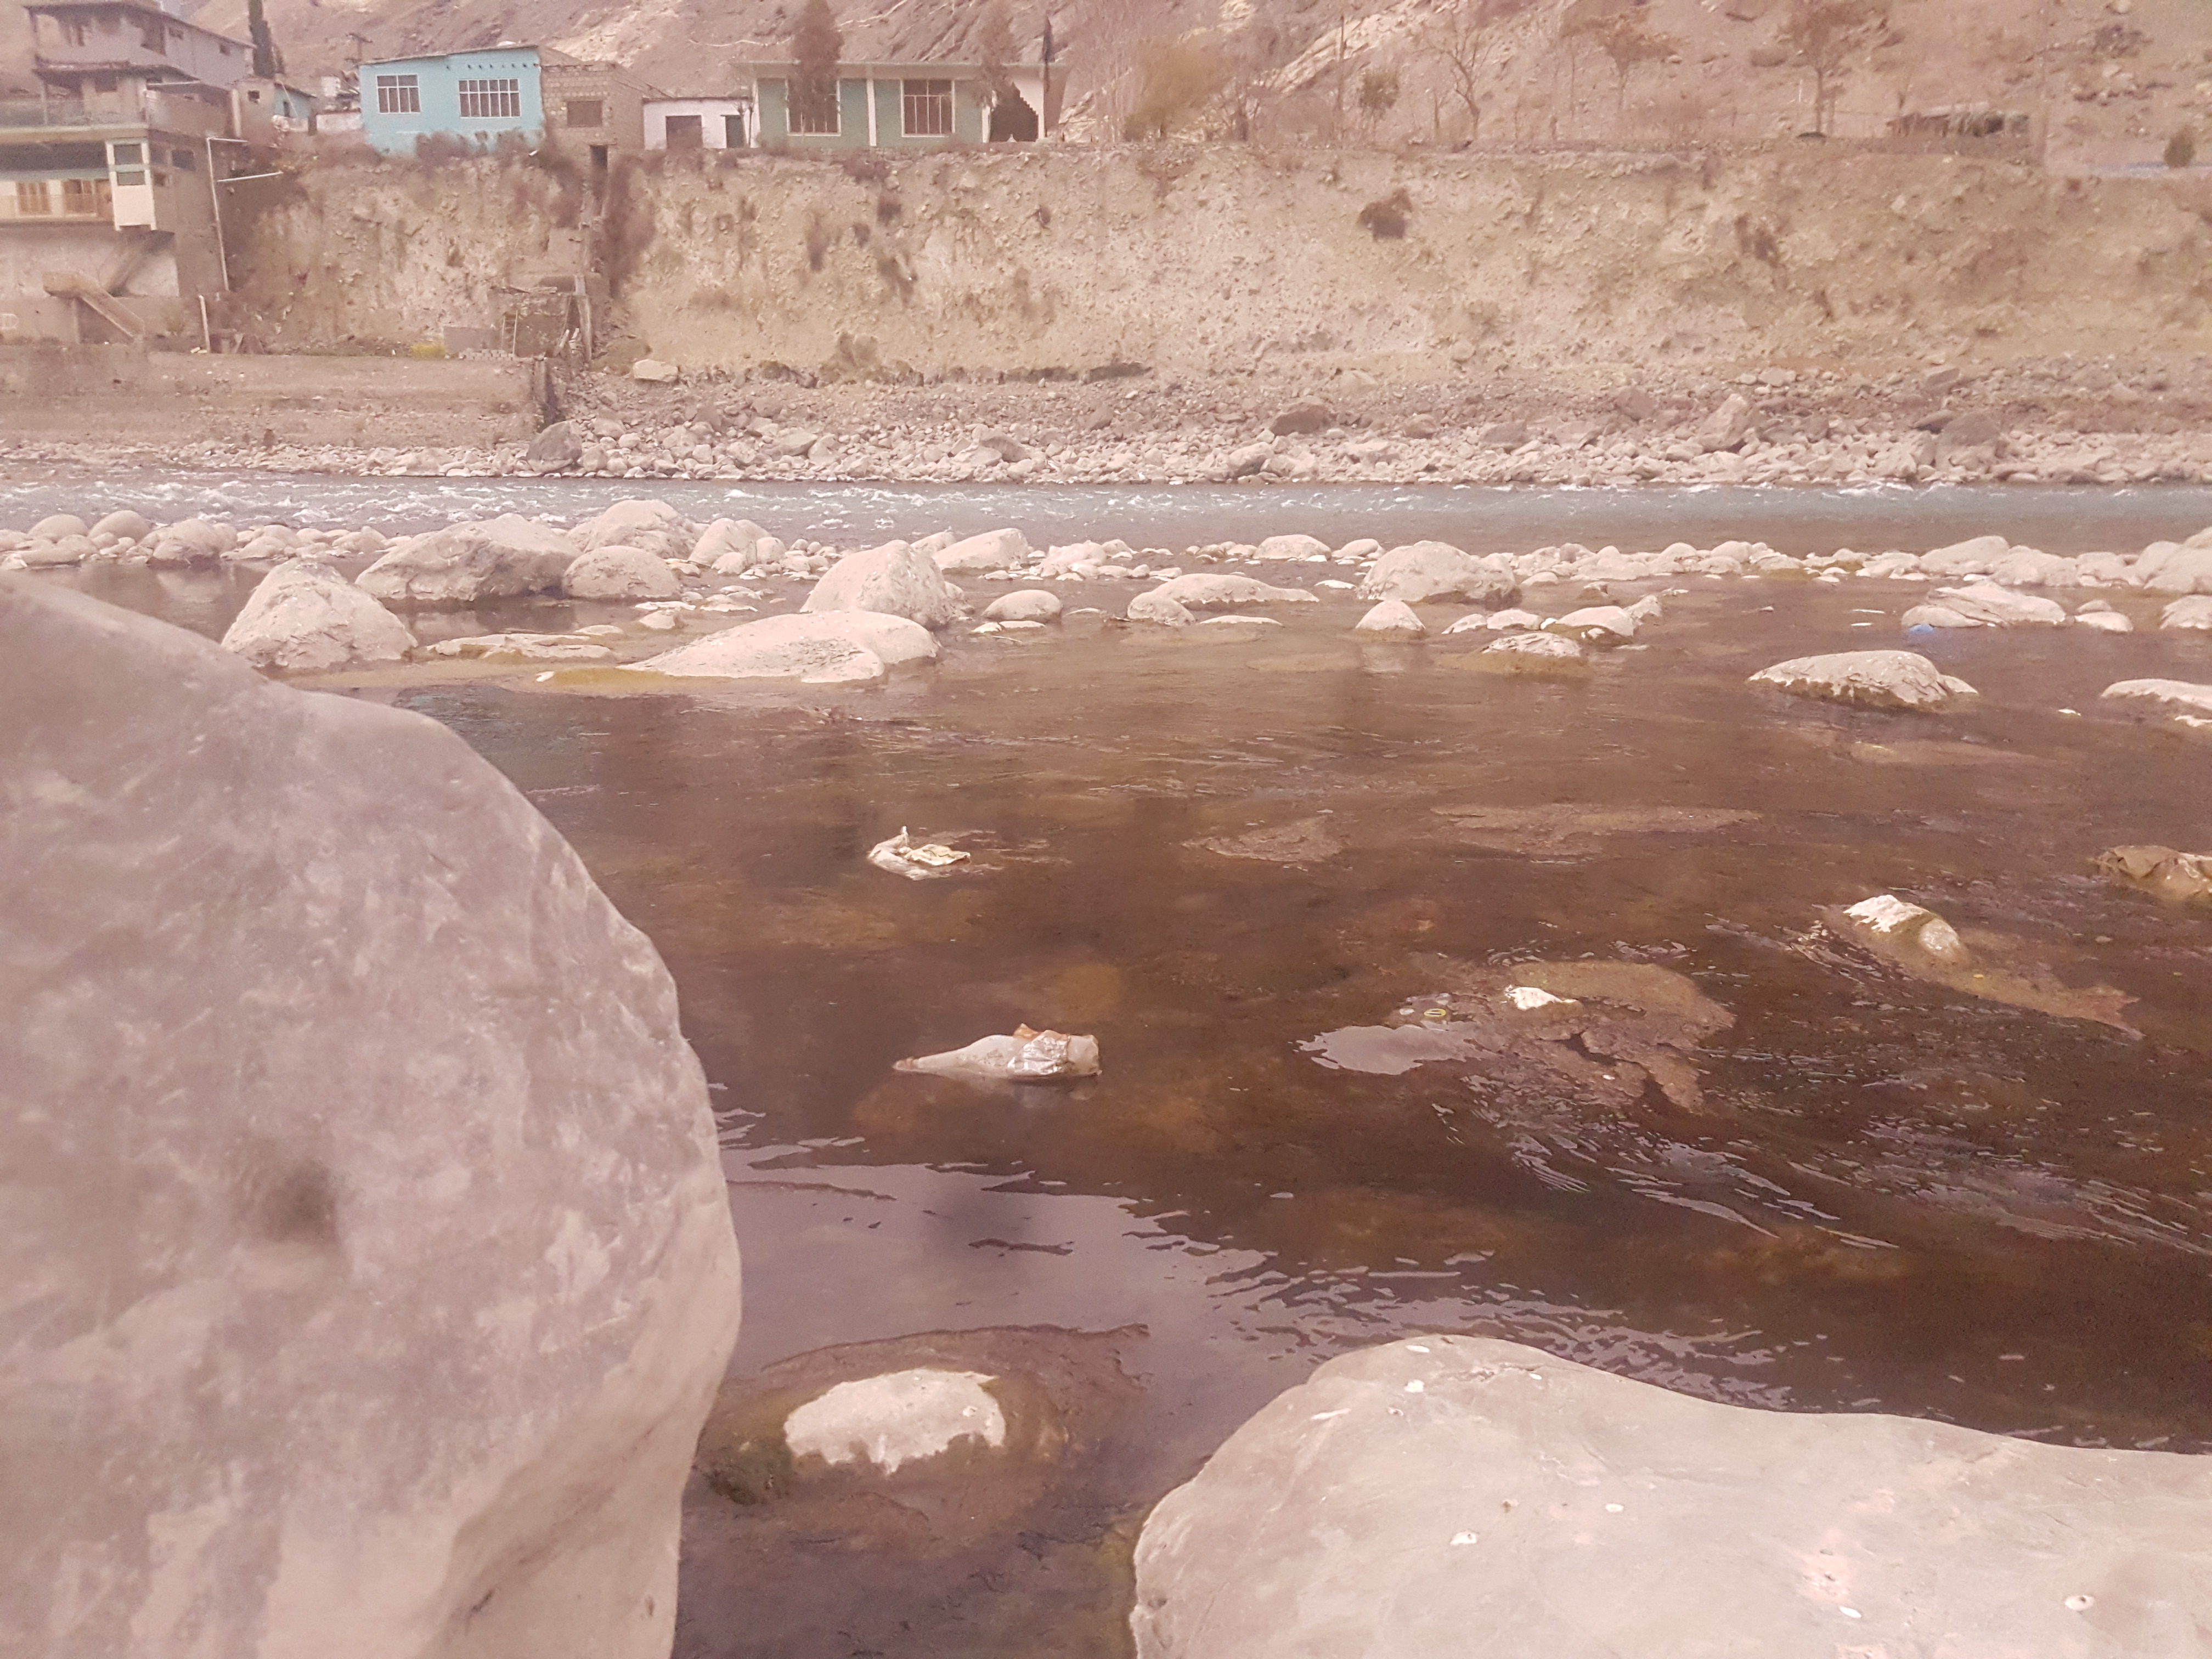Plastic Bottle: (897, 1032, 1101, 1077), (1907, 624, 1933, 633)
